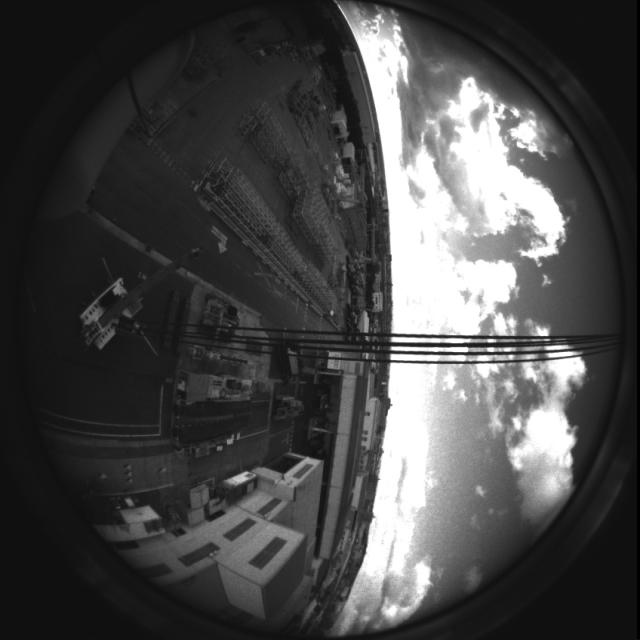rope: (93, 304, 637, 366)
sky: (322, 1, 620, 637)
